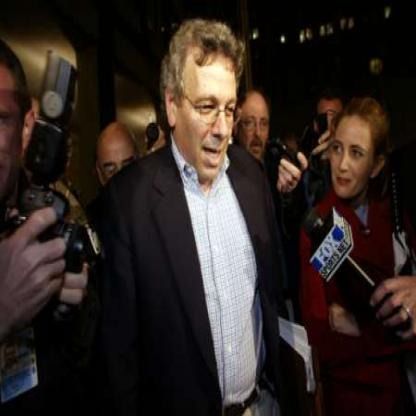face: (177, 31, 243, 183), (332, 102, 377, 204), (240, 95, 272, 164)
